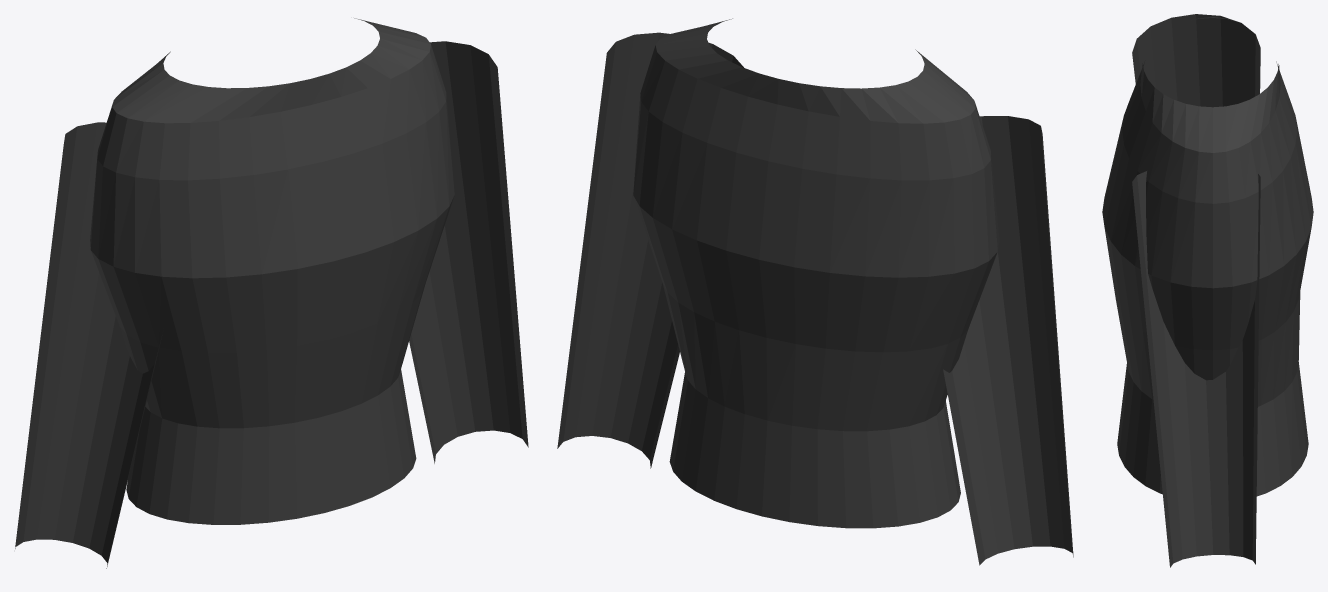
Rendered from shirt.glb.
The picture shows the model from 3 angles, left to right: view 1: azimuth 30°, elevation 25°; view 2: azimuth 150°, elevation 25°; view 3: azimuth 270°, elevation 25°; orthographic projection. The views are drawn at different scales.
Parts seen in each view (by area): view 1: geometry_0; view 2: geometry_0; view 3: geometry_0.
Part boxes in pixels (x1,y1,x2,y2): geometry_0: (15,18,528,568); geometry_0: (557,18,1073,565); geometry_0: (1102,14,1313,567).
Size of the model in its own units: 0.6326 by 0.5587 by 0.256.
Materials: 1 (1 with a texture image).
